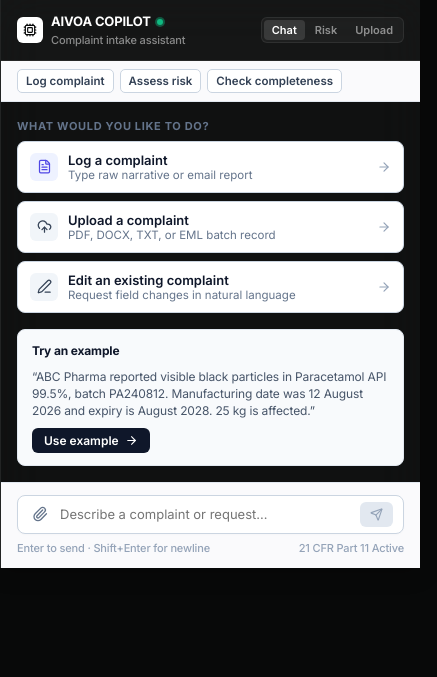
Copilot First-Run Experience Tests › executes real logging workflow when Use example is clicked
Click the button "Use example".
click(91, 440)  # box [32,428,150,453]
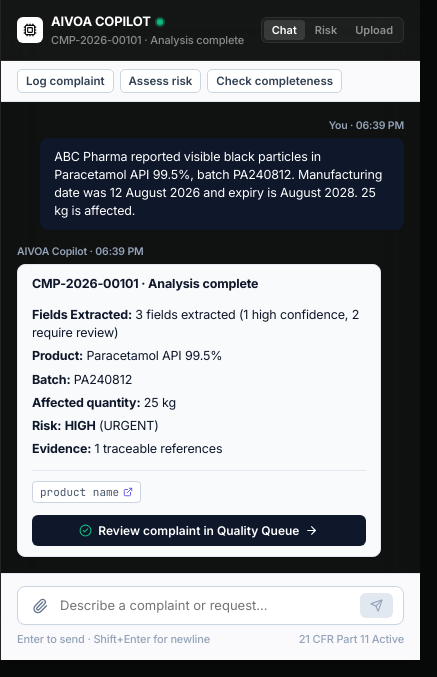
Now the 1st text "CMP-2026-00101 · Analysis complete" is shown, box [51,32,244,48]
Now the text "Review complaint in Quality Queue" is shown, box [98,523,300,538]
